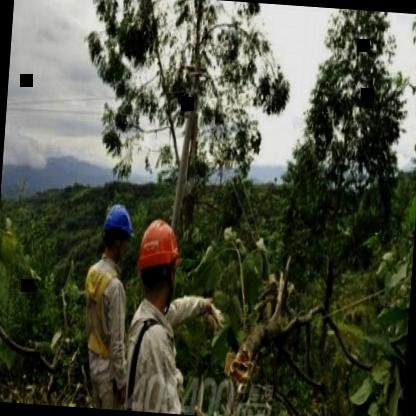helmet: (134, 212, 186, 310), (98, 202, 136, 266)
